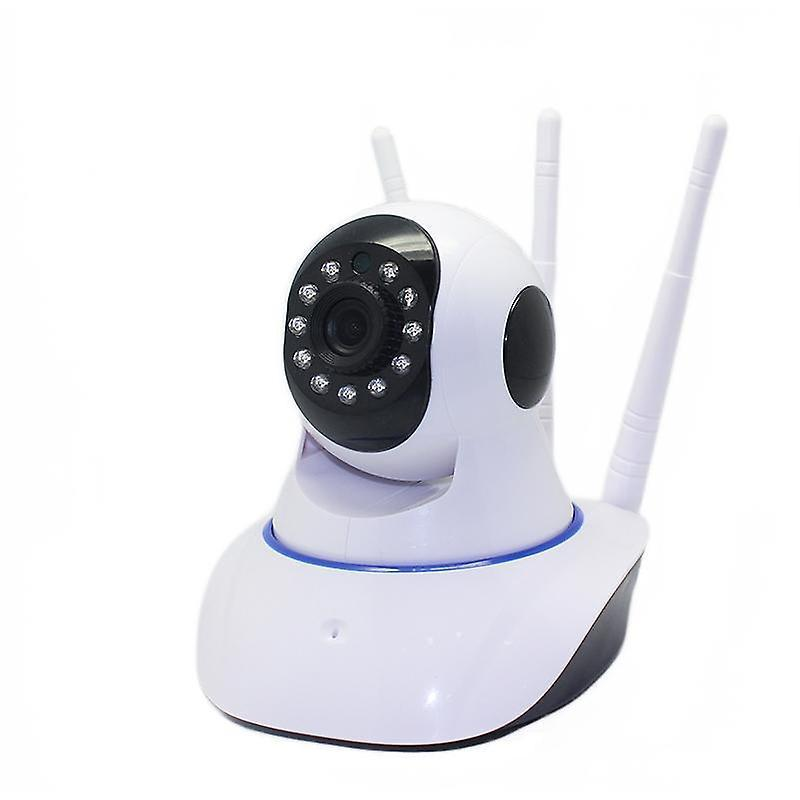CCTV: (197, 109, 731, 754)
